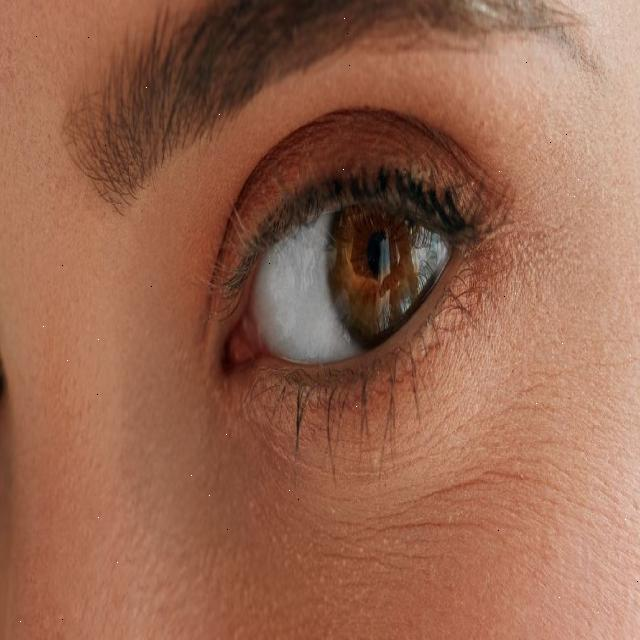Normal: (324, 138, 454, 366)
